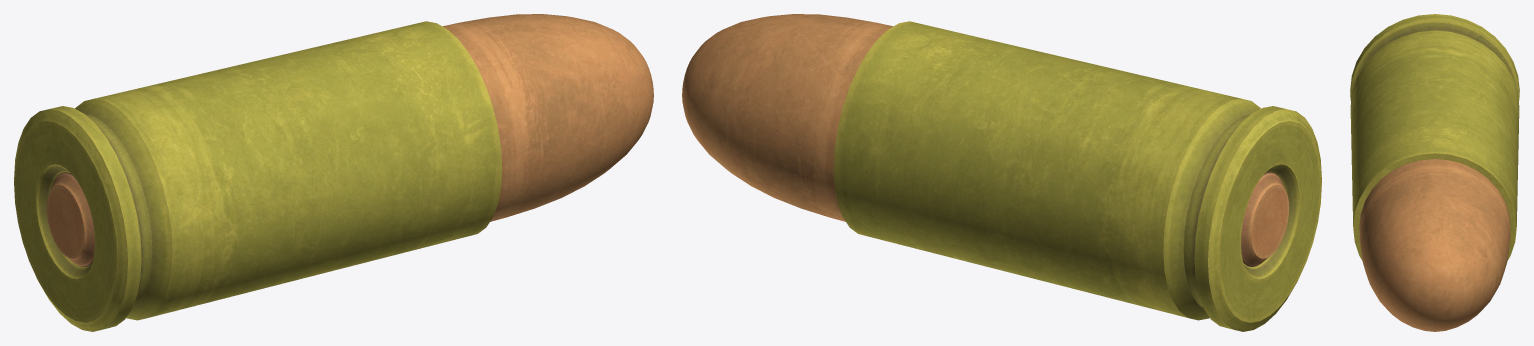
File: bullet.glb
3 renders of one model, left to right at view 1: azimuth 30°, elevation 25°; view 2: azimuth 150°, elevation 25°; view 3: azimuth 270°, elevation 25°, orthographic. The views are drawn at different scales.
Visible parts, largest first — view 1: Bullet; view 2: Bullet; view 3: Bullet.
Boxes of the visible parts, bbox=[...] form: Bullet: bbox=[14, 14, 653, 331]; Bullet: bbox=[682, 14, 1321, 331]; Bullet: bbox=[1350, 14, 1519, 331].
Bounding box in the file's own units: 186 × 63.58 × 63.58.
Materials: 1 (1 with a texture image).
